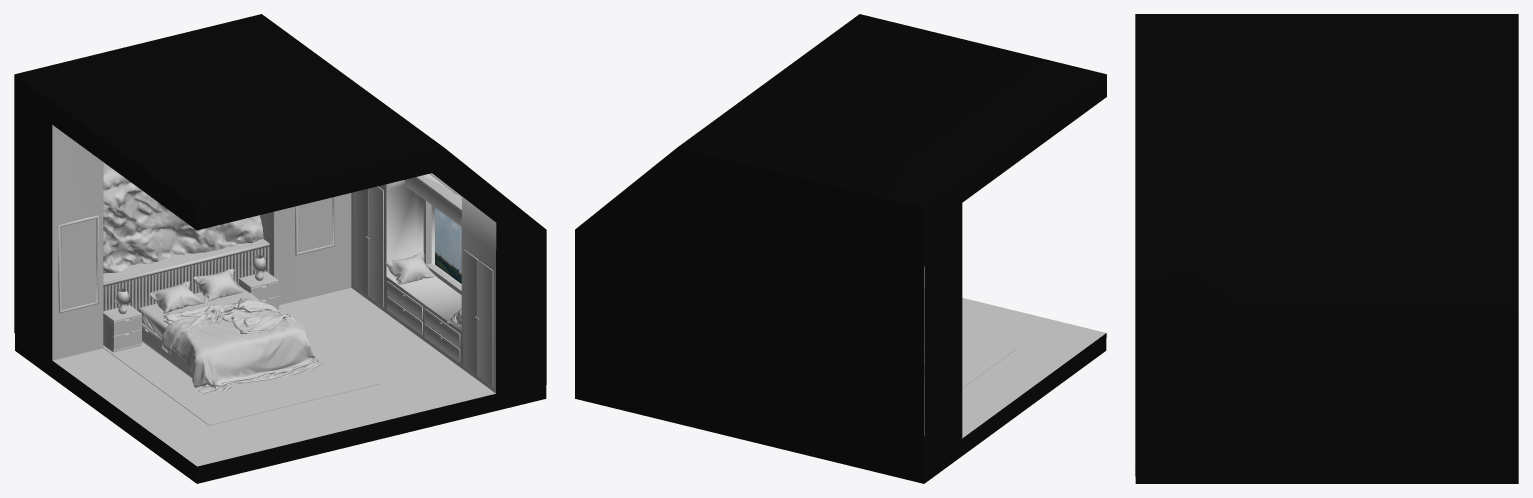
3 renders of one model, left to right at view 1: azimuth 30°, elevation 25°; view 2: azimuth 150°, elevation 25°; view 3: azimuth 270°, elevation 25°, orthographic. The views are drawn at different scales.
Parts seen in each view (by area): view 1: bed_room-material, rien-material, sky-material; view 2: rien-material, bed_room-material; view 3: rien-material.
Part boxes in pixels (x1,y1,x2,y2): bed_room-material: (52,125,496,466); rien-material: (14,14,546,483); sky-material: (435,208,461,283); rien-material: (575,14,1106,483); bed_room-material: (924,289,1105,438); rien-material: (1135,14,1518,483).
Size of the model in its own units: 6.64 by 5.01 by 6.
